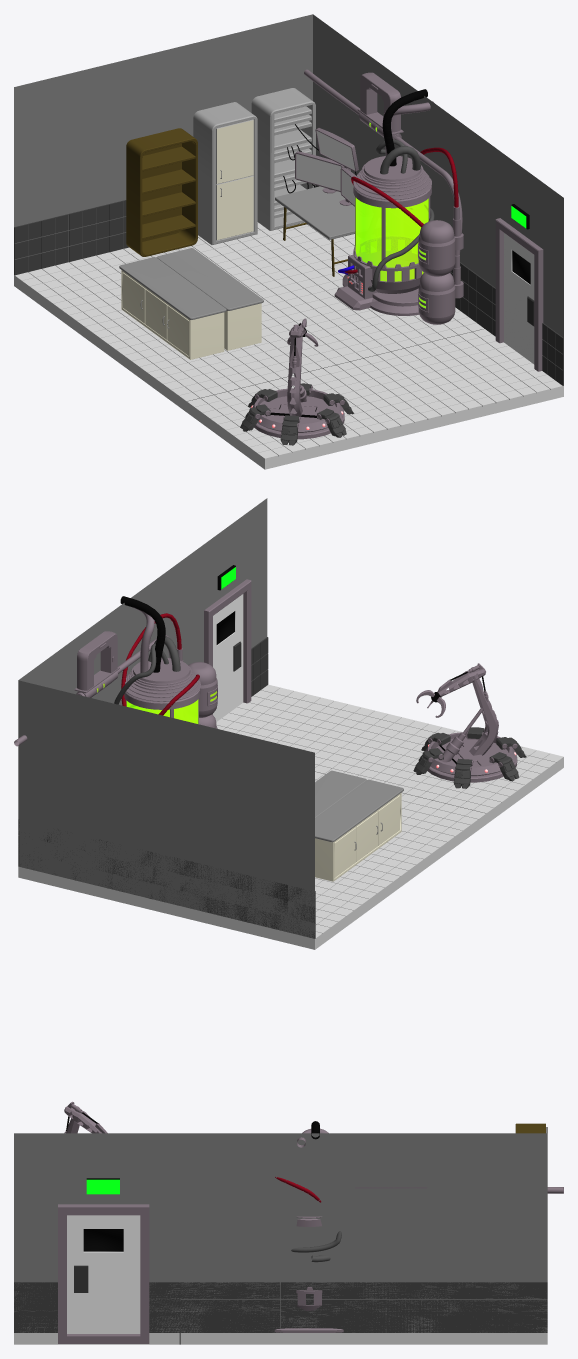
Rendered from labcolor001.fbx.
The picture shows the model from 3 angles, top to bottom: view 1: azimuth 30°, elevation 25°; view 2: azimuth 150°, elevation 25°; view 3: azimuth 270°, elevation 25°; orthographic projection. The views are drawn at different scales.
Parts seen in each view (by area): view 1: floor, Plane.001, Cylinder.013, Cube.016, Cube.002, Cube.015, Cube.009, Cylinder.002, floor.002, Cube.014, Cube.007, Cube.011 (+4 smaller); view 2: Plane.001, floor, Cylinder.013, Cylinder.002, Cube.015, floor.002, Cube.007, Cylinder, Cube.001, Cube.014, floor.001; view 3: Plane.001, floor.001, Cube.007, floor, Cube.001, Cylinder.013, Cylinder.002, Cube.012.
Part boxes in pixels (box(x1,y1,x2,y2)): floor: box(14, 222, 563, 469); Plane.001: box(14, 14, 563, 337); Cylinder.013: box(334, 89, 463, 324); Cube.016: box(126, 128, 197, 256); Cube.002: box(193, 102, 257, 244); Cube.015: box(119, 257, 226, 359); Cube.009: box(251, 88, 356, 230); Cylinder.002: box(240, 318, 354, 445); floor.002: box(14, 200, 128, 275); Cube.014: box(156, 248, 263, 350); Cube.007: box(504, 233, 534, 364); Cube.011: box(295, 128, 358, 206); Plane.001: box(18, 498, 314, 938); floor: box(18, 684, 563, 949); Cylinder.013: box(114, 596, 217, 728); Cylinder.002: box(413, 663, 526, 788); Cube.015: box(315, 779, 403, 881); floor.002: box(20, 829, 315, 938); Cube.007: box(213, 594, 243, 721); Cylinder: box(14, 631, 170, 746); Cube.001: box(204, 579, 251, 714); Cube.014: box(315, 770, 366, 817); floor.001: box(18, 637, 268, 866); Plane.001: box(14, 1133, 547, 1332); floor.001: box(14, 1282, 547, 1332); Cube.007: box(67, 1215, 140, 1333); floor: box(14, 1333, 547, 1344); Cube.001: box(58, 1204, 149, 1343); Cylinder.013: box(274, 1121, 343, 1332); Cylinder.002: box(64, 1101, 107, 1133); Cube.012: box(86, 1178, 119, 1194).
Bounding box in the file's own units: 510 × 324 × 749.
